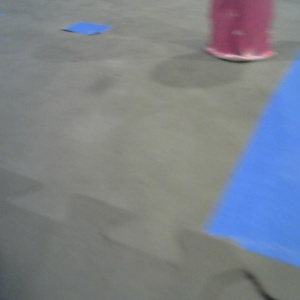right: (216, 1, 287, 52)
